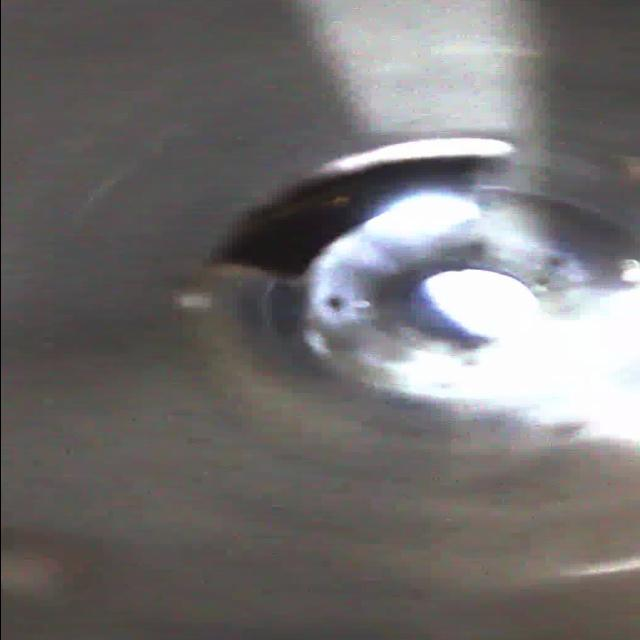hole: (206, 130, 516, 286)
